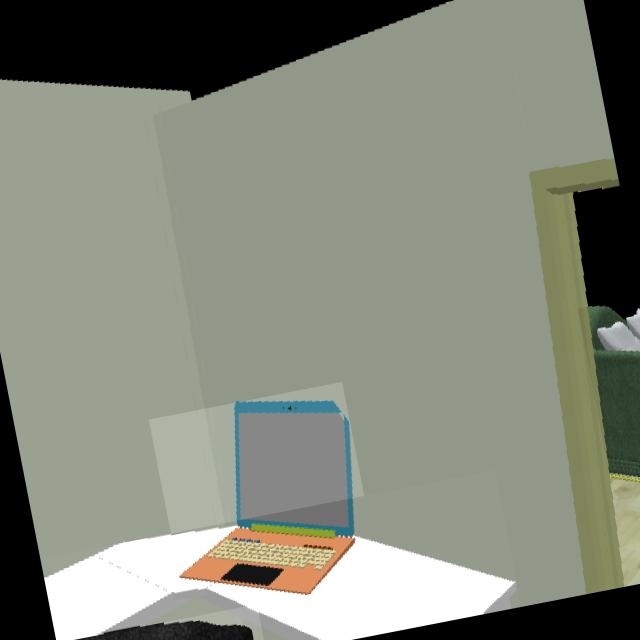chair: (79, 622, 256, 640)
laptop: (180, 400, 362, 598)
pillow: (592, 309, 640, 358)
sofa: (588, 307, 640, 482)
table: (44, 527, 518, 640)
